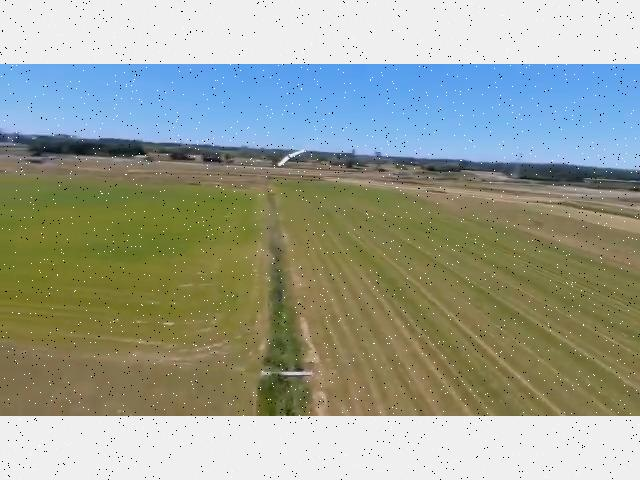Anti-Drone: (261, 142, 317, 175)
